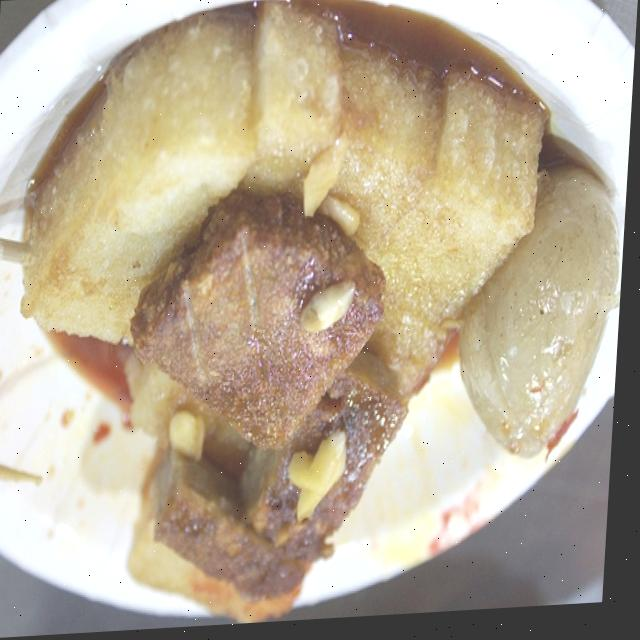蛋糕甜品: (0, 0, 618, 628)
